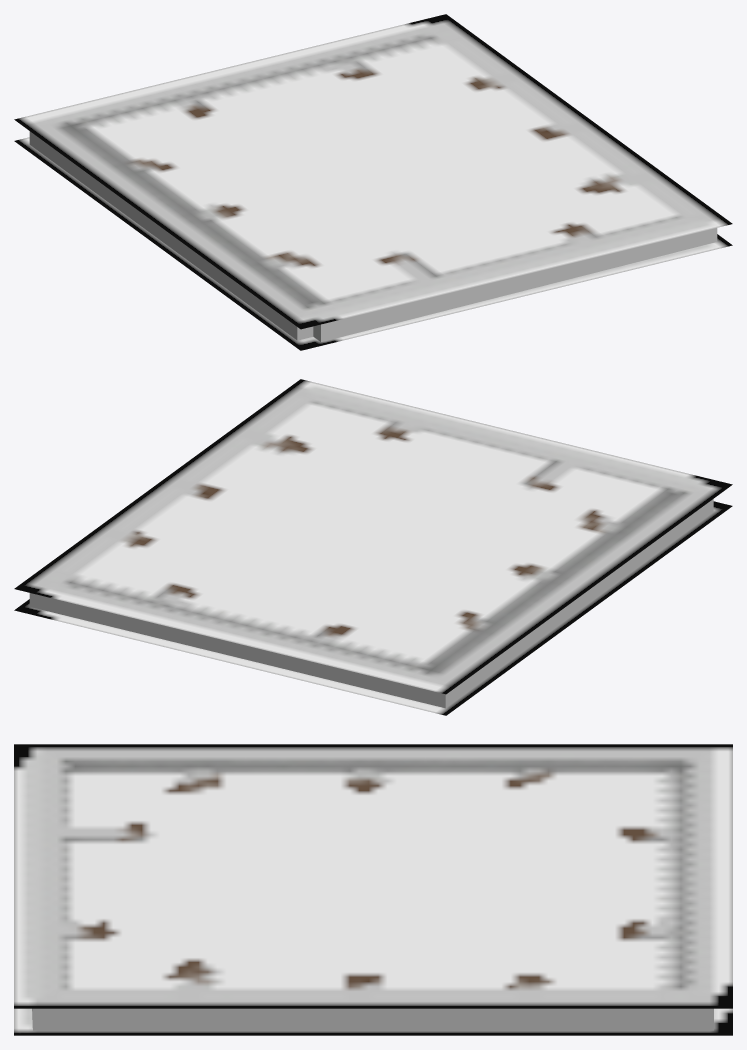
Rendered from pz_native_fixtures_windows_white_113_frame.obj.
3 views of the same model, one above another, from view 1: azimuth 30°, elevation 25°; view 2: azimuth 150°, elevation 25°; view 3: azimuth 270°, elevation 25° (orthographic). The views are drawn at different scales.
Visible parts, largest first — view 1: pz_native_fixtures_windows_white_113_frame; view 2: pz_native_fixtures_windows_white_113_frame; view 3: pz_native_fixtures_windows_white_113_frame.
Part boxes in pixels (left/top/right/bottom): pz_native_fixtures_windows_white_113_frame: left=14, top=14, right=732, bottom=350; pz_native_fixtures_windows_white_113_frame: left=14, top=379, right=732, bottom=715; pz_native_fixtures_windows_white_113_frame: left=14, top=744, right=732, bottom=1035.
Bounding box in the file's own units: 0.8438 × 0.04 × 0.9696.
Materials: 1 (1 with a texture image).
